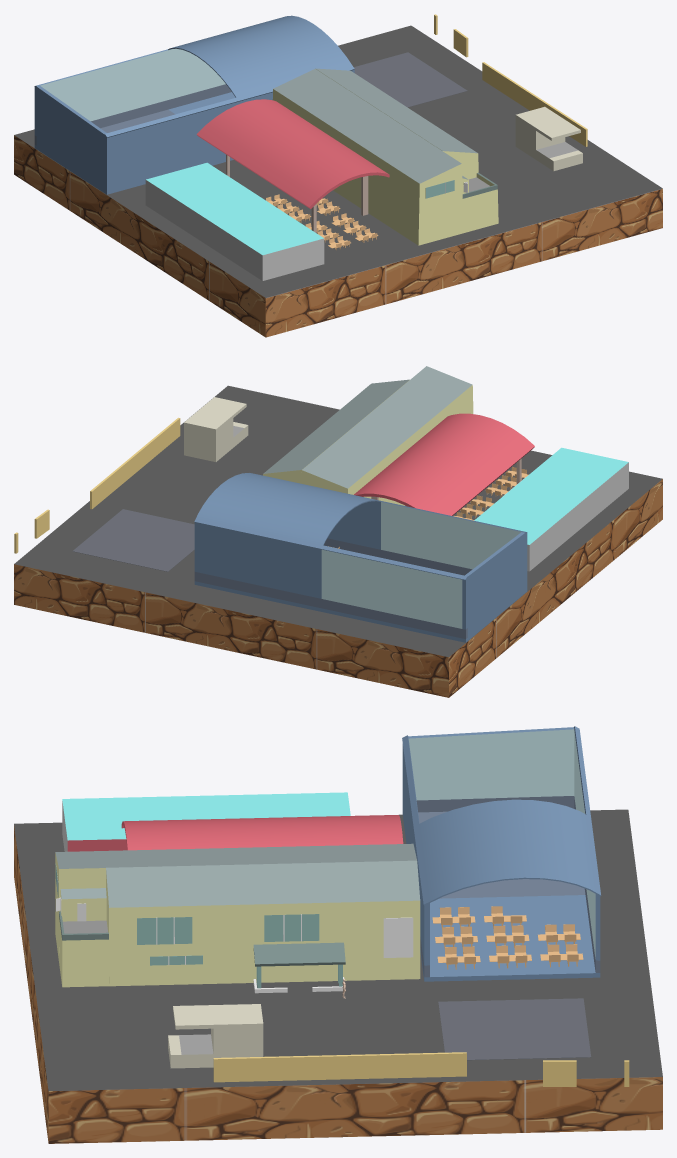
File: Canteen.glb
3 views of the same model, one above another, from view 1: azimuth 30°, elevation 25°; view 2: azimuth 150°, elevation 25°; view 3: azimuth 270°, elevation 25° (orthographic). The views are drawn at different scales.
Parts seen in each view (by area): view 1: polySurface965, polySurface912, polySurface893, polySurface970, polySurface607, polySurface964, polySurface880, polySurface645, polySurface888, polySurface569, polySurface646; view 2: polySurface965, polySurface912, polySurface607, polySurface893, polySurface970, polySurface964, polySurface880, polySurface569, polySurface645, polySurface646; view 3: polySurface965, polySurface912, polySurface880, polySurface970, polySurface964, polySurface607, polySurface893, polySurface569, polySurface888, polySurface645, polySurface646, polySurface889 (+5 smaller).
Part boxes in pixels (<box>): polySurface965: <box>14,25,662,337</box>; polySurface912: <box>34,15,354,194</box>; polySurface893: <box>272,69,463,245</box>; polySurface970: <box>145,162,324,280</box>; polySurface607: <box>196,99,389,208</box>; polySurface964: <box>354,52,467,107</box>; polySurface880: <box>315,68,478,179</box>; polySurface645: <box>515,118,582,171</box>; polySurface888: <box>462,172,498,233</box>; polySurface569: <box>482,62,587,146</box>; polySurface646: <box>515,106,580,140</box>; polySurface965: <box>14,385,662,697</box>; polySurface912: <box>194,473,527,642</box>; polySurface607: <box>354,413,534,515</box>; polySurface893: <box>301,366,473,505</box>; polySurface970: <box>474,447,628,571</box>; polySurface964: <box>72,509,194,571</box>; polySurface880: <box>263,379,409,483</box>; polySurface569: <box>90,417,180,509</box>; polySurface645: <box>184,418,248,461</box>; polySurface646: <box>184,397,246,432</box>; polySurface965: <box>14,809,662,1143</box>; polySurface912: <box>402,726,601,981</box>; polySurface880: <box>106,860,420,986</box>; polySurface970: <box>62,792,350,851</box>; polySurface964: <box>438,998,591,1060</box>; polySurface607: <box>121,815,403,850</box>; polySurface893: <box>55,843,416,962</box>; polySurface569: <box>213,1052,466,1082</box>; polySurface888: <box>59,911,109,987</box>; polySurface645: <box>168,1027,263,1068</box>; polySurface646: <box>173,1004,263,1029</box>; polySurface889: <box>253,942,345,966</box>.
Bounding box in the file's own units: 12.51 × 3.2 × 12.18.
Materials: 22 (1 with a texture image).
